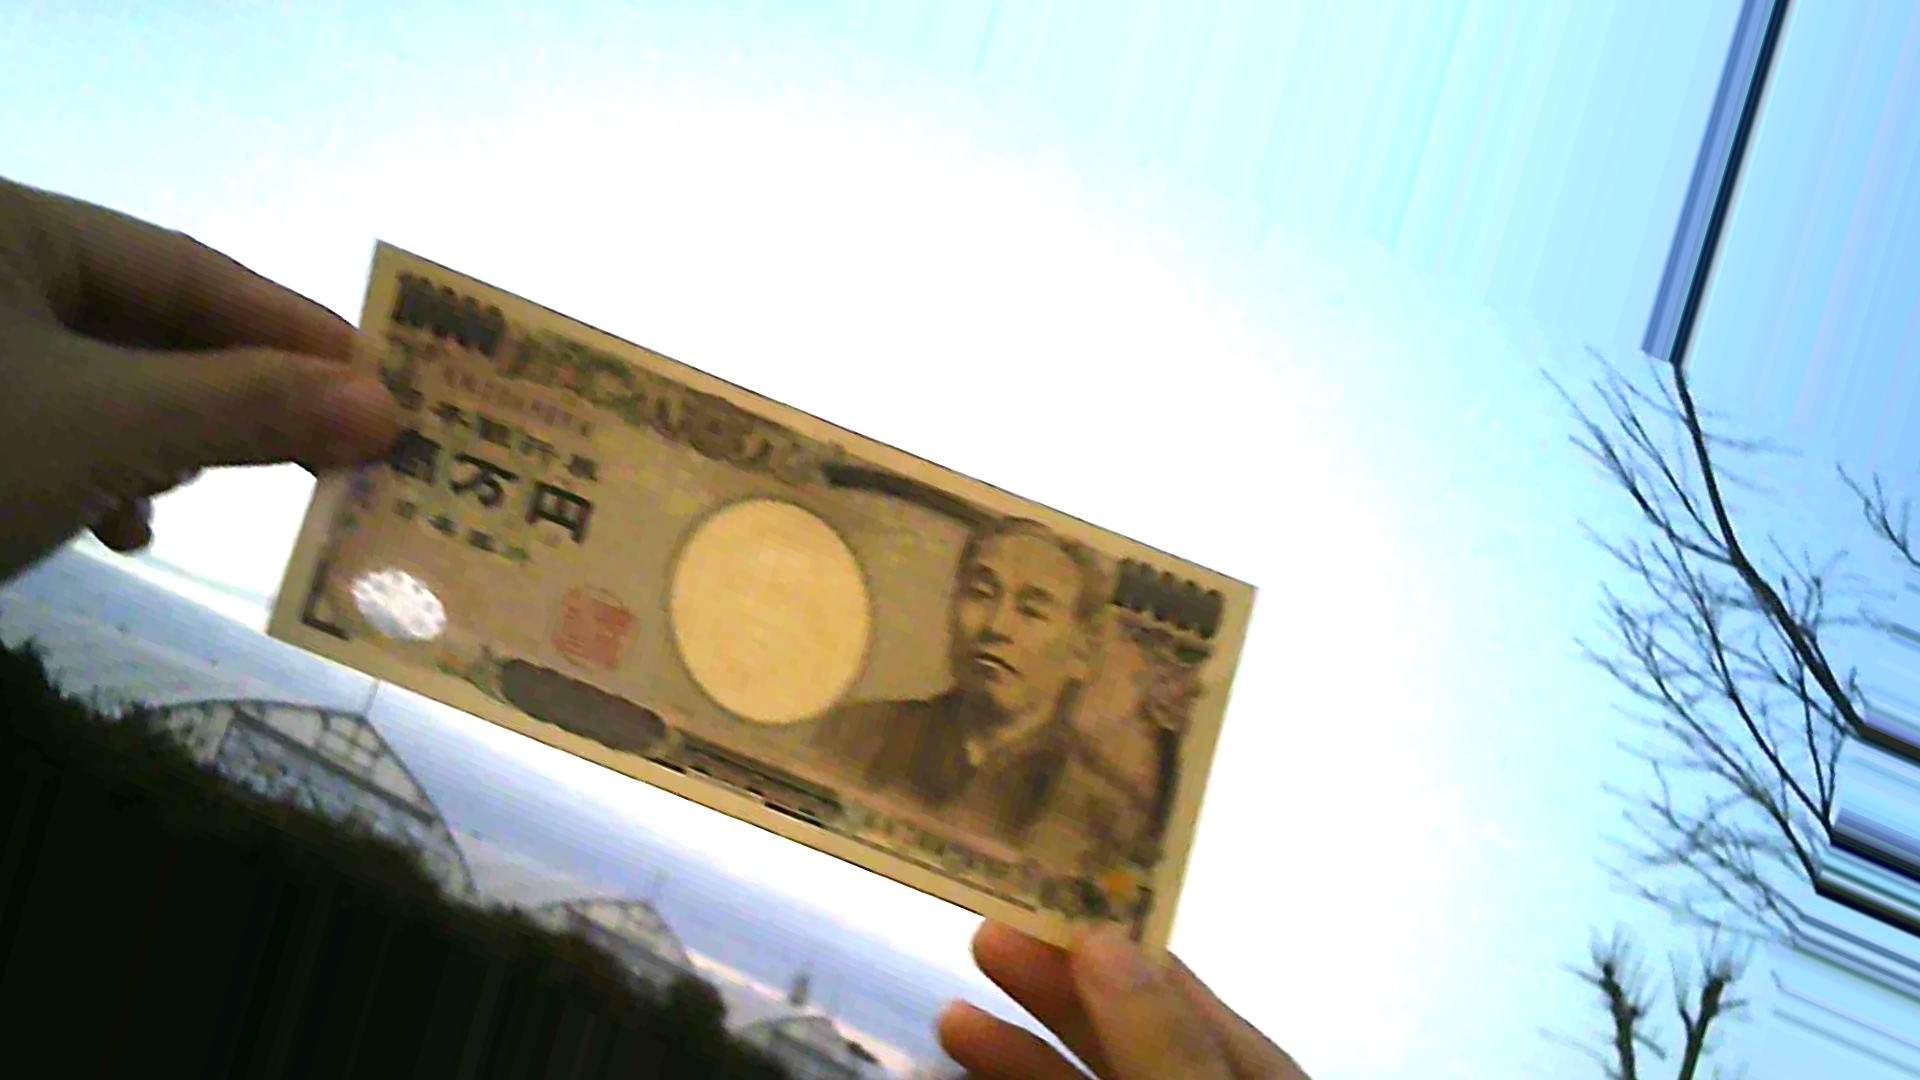10,000 Yen: (258, 219, 1261, 996)
